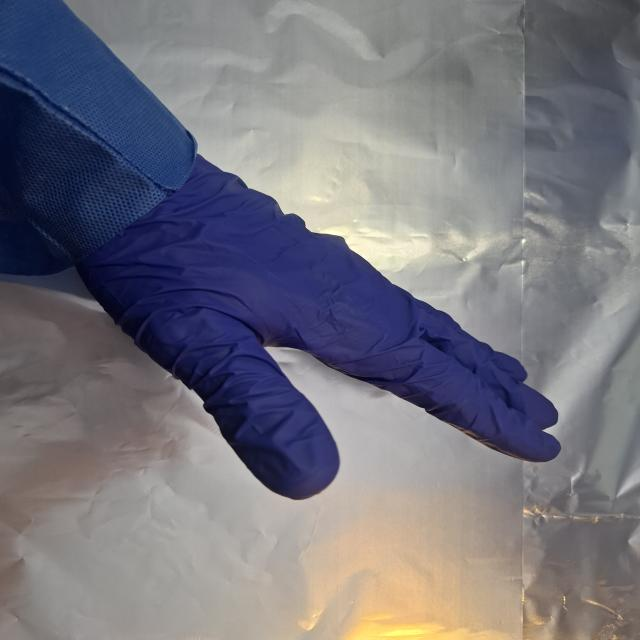glove_on: (72, 152, 566, 503)
